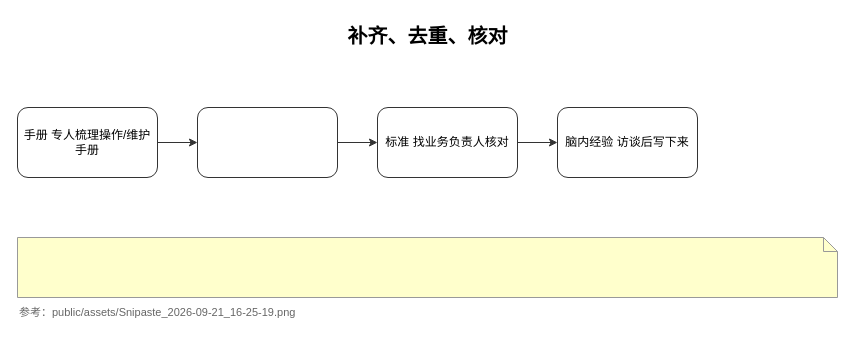
Some shapes in this 855 by 338 pixel diagram are drawn without their labels. Each missing label, with the centre of its shape:
AI 可以整理，但权威标准必须由人确认: the point at 427,267
文件 提炼重点、删除重复: the point at 267,142
